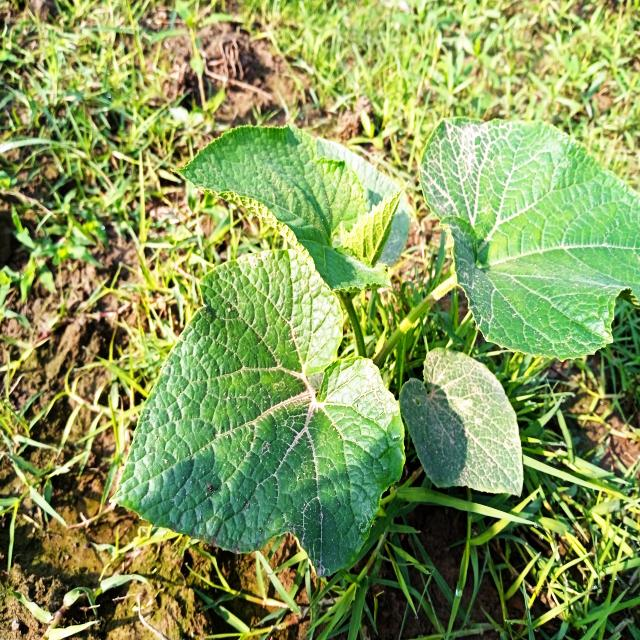Fresh-Leaf: (109, 245, 406, 574), (170, 125, 394, 294)
